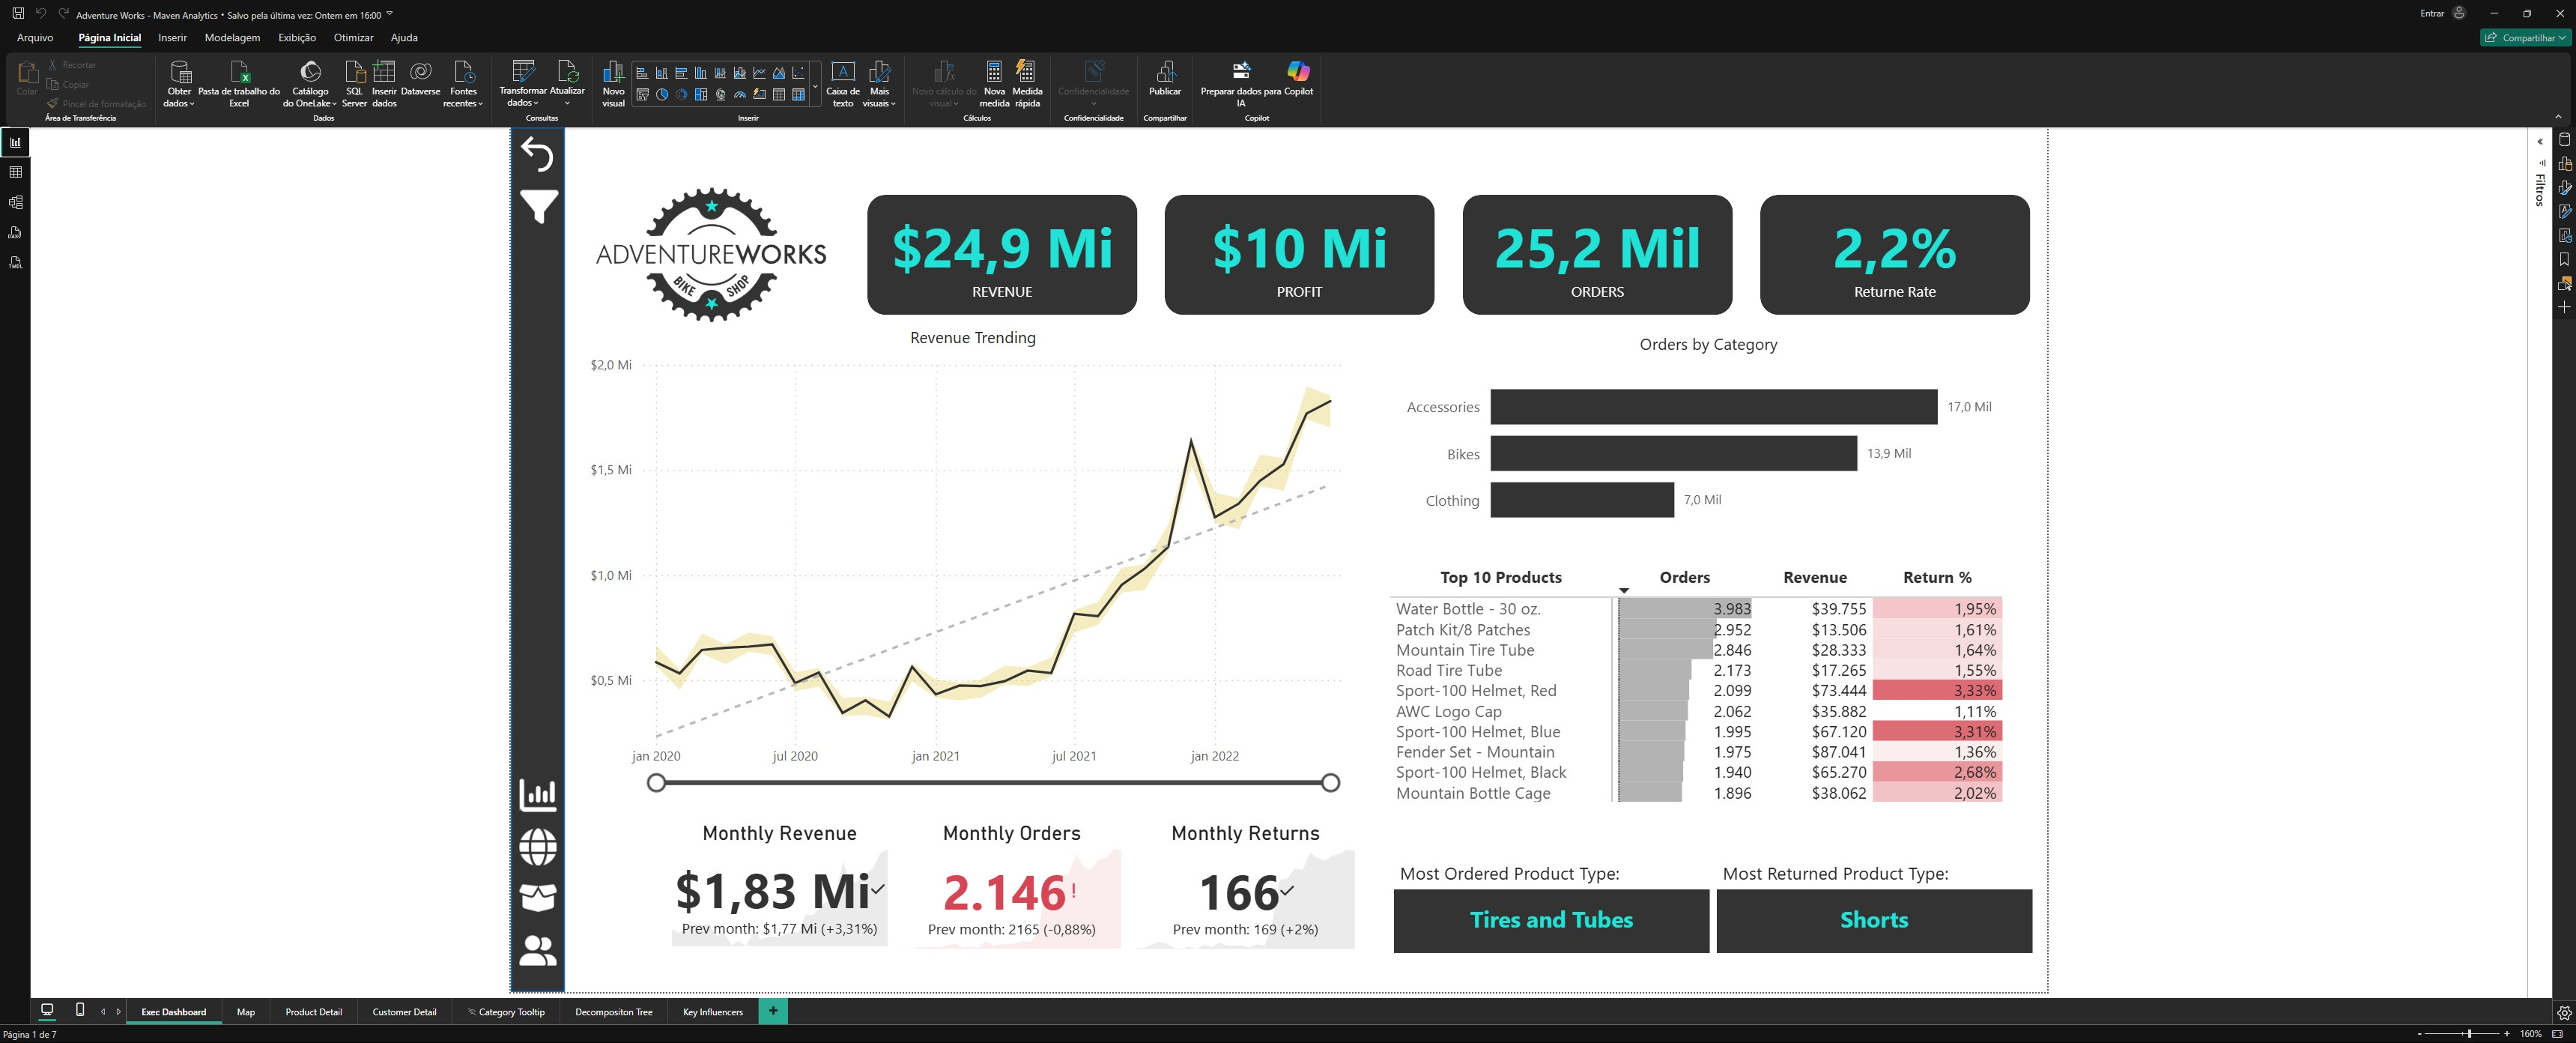

The dashboard page shown, as its layout file describes it:
{"tool":"powerbi","page":{"name":"Exec Dashboard","canvas":[1280,720],"ordinal":0},"visuals":[{"type":"image","title":"AW Logo","box":[50,46.2,235,120],"z":0},{"type":"group","id":"g1","title":"KPI Backgrounds","box":[297.2,56.4,968.8,100],"z":0,"group":"g3"},{"type":"shape","box":[297.2,56.4,225,100],"z":0,"group":"g1"},{"type":"card","fields":{"Values":["Measure Table (Inserir).Total Revenue"]},"box":[297.2,56.4,225,100],"z":0,"group":"g2"},{"type":"actionButton","box":[3,536.7,42.4,39.3],"z":0,"group":"g4"},{"type":"shape","title":"Left Nav Bcakground","box":[0,0,45,720],"z":1000},{"type":"group","id":"g2","title":"KPI Values","box":[297.2,56.4,968.8,100],"z":1000,"group":"g3"},{"type":"card","fields":{"Values":["Measure Table (Inserir).Total Profit"]},"box":[544.7,56.4,225,100],"z":1000,"group":"g2"},{"type":"shape","box":[793,56.4,225,100],"z":1000,"group":"g1"},{"type":"actionButton","box":[3,579.6,42.4,39.3],"z":1000,"group":"g4"},{"type":"group","id":"g3","title":"KPI's","box":[297.2,56.4,969.8,99.8],"z":2000},{"type":"card","fields":{"Values":["Measure Table (Inserir).Total Orders"]},"box":[793.4,56.4,225,100],"z":2000,"group":"g2"},{"type":"shape","box":[1041,56.4,225,100],"z":2000,"group":"g1"},{"type":"actionButton","box":[3,622.5,42.4,39.3],"z":2000,"group":"g4"},{"type":"shape","box":[545.1,56.4,225,100],"z":3000,"group":"g1"},{"type":"card","fields":{"Values":["Measure Table (Inserir).Returne Rate"]},"box":[1041,56.4,225,100],"z":3000,"group":"g2"},{"type":"card","fields":{"Values":["Min(Product Subcategories Lookup.SubcategoryName)"]},"box":[735.5,634.4,262.8,52.9],"z":3000},{"type":"actionButton","box":[3,665.8,42.4,39.3],"z":3000,"group":"g4"},{"type":"lineChart","title":"Revenue Trending","fields":{"Category":["Calendar Lookup.Ano Hierarquia.Início do Mês"],"Y":["Measure Table (Inserir).Total Revenue"]},"box":[59.7,164.9,648.7,392.7],"z":4000},{"type":"kpi","title":"Monthly Revenue","fields":{"Goal":["Measure Table (Inserir).Previous Month Revenue"],"Indicator":["Measure Table (Inserir).Total Revenue"],"TrendLine":["Calendar Lookup.Início do Mês"]},"box":[129.1,576.9,189.8,109.9],"z":5000},{"type":"kpi","title":"Monthly Orders","fields":{"Goal":["Measure Table (Inserir).Previous Month Order"],"Indicator":["Measure Table (Inserir).Total Orders"],"TrendLine":["Calendar Lookup.Início do Mês"]},"box":[321.4,576.9,192.3,112.4],"z":6000},{"type":"kpi","title":"Monthly Returns","fields":{"Goal":["Measure Table (Inserir).Previous Month Returns"],"Indicator":["Measure Table (Inserir).Total Returns"],"TrendLine":["Calendar Lookup.Início do Mês"]},"box":[516.2,576.9,192.3,112.4],"z":7000},{"type":"clusteredBarChart","title":"Orders by Category","fields":{"Category":["Product Categories Lookup.CategoryName"],"Y":["Measure Table (Inserir).Total Orders"]},"box":[736.1,171.8,523.5,175],"z":8000},{"type":"pivotTable","fields":{"Rows":["Product Lookup.ProductName"],"Values":["Measure Table (Inserir).Total Orders","Measure Table (Inserir).Total Revenue","Measure Table (Inserir).Returne Rate"]},"box":[727.6,360.8,531.8,217.7],"z":9000},{"type":"textbox","box":[735.5,605.3,198.5,30.4],"z":10000},{"type":"card","fields":{"Values":["Min(Product Subcategories Lookup.SubcategoryName)"]},"box":[1004.5,634.4,262.8,52.9],"z":11000},{"type":"textbox","box":[1004.5,605.3,198.5,30.4],"z":12000},{"type":"actionButton","box":[2.2,2.2,42.3,40.1],"z":13000},{"type":"actionButton","box":[3.5,45.9,41.2,40],"z":13500},{"type":"group","id":"g4","title":"Navigation Buttons","box":[3,536.7,42.4,168.5],"z":14000}]}

Visuals, with their boxes on the page's 1280x720 design canvas (x1, y1, x2, y2). These are canvas units, not pixel positions in the 2576x1043 screenshot, which may show the page scaled, cropped or inside an application window:
"AW Logo" image: bbox=(50, 46, 285, 166)
"KPI Backgrounds" group: bbox=(297, 56, 1266, 156)
shape: bbox=(297, 56, 522, 156)
card - Measure Table (Inserir).Total Revenue: bbox=(297, 56, 522, 156)
actionButton: bbox=(3, 537, 45, 576)
"Left Nav Bcakground" shape: bbox=(0, 0, 45, 720)
"KPI Values" group: bbox=(297, 56, 1266, 156)
card - Measure Table (Inserir).Total Profit: bbox=(545, 56, 770, 156)
shape: bbox=(793, 56, 1018, 156)
actionButton: bbox=(3, 580, 45, 619)
"KPI's" group: bbox=(297, 56, 1267, 156)
card - Measure Table (Inserir).Total Orders: bbox=(793, 56, 1018, 156)
shape: bbox=(1041, 56, 1266, 156)
actionButton: bbox=(3, 622, 45, 662)
shape: bbox=(545, 56, 770, 156)
card - Measure Table (Inserir).Returne Rate: bbox=(1041, 56, 1266, 156)
card - Min(Product Subcategories Lookup.SubcategoryName): bbox=(736, 634, 998, 687)
actionButton: bbox=(3, 666, 45, 705)
"Revenue Trending" lineChart: bbox=(60, 165, 708, 558)
"Monthly Revenue" kpi: bbox=(129, 577, 319, 687)
"Monthly Orders" kpi: bbox=(321, 577, 514, 689)
"Monthly Returns" kpi: bbox=(516, 577, 708, 689)
"Orders by Category" clusteredBarChart: bbox=(736, 172, 1260, 347)
pivotTable - Product Lookup.ProductName x Measure Table (Inserir).Total Orders: bbox=(728, 361, 1259, 578)
textbox: bbox=(736, 605, 934, 636)
card - Min(Product Subcategories Lookup.SubcategoryName): bbox=(1004, 634, 1267, 687)
textbox: bbox=(1004, 605, 1203, 636)
actionButton: bbox=(2, 2, 44, 42)
actionButton: bbox=(4, 46, 45, 86)
"Navigation Buttons" group: bbox=(3, 537, 45, 705)
